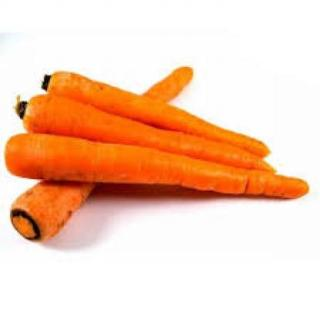Wortel: (24, 93, 277, 175), (4, 134, 310, 201), (46, 73, 271, 160)
